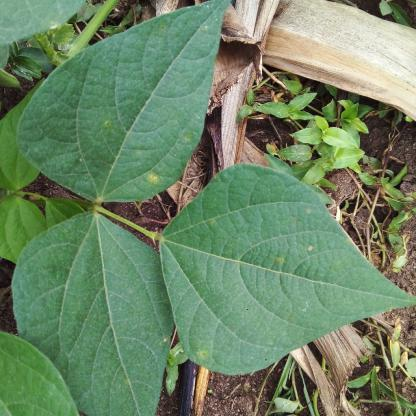Beans_Rust: (155, 166, 416, 374), (22, 1, 229, 200), (11, 213, 177, 416)
